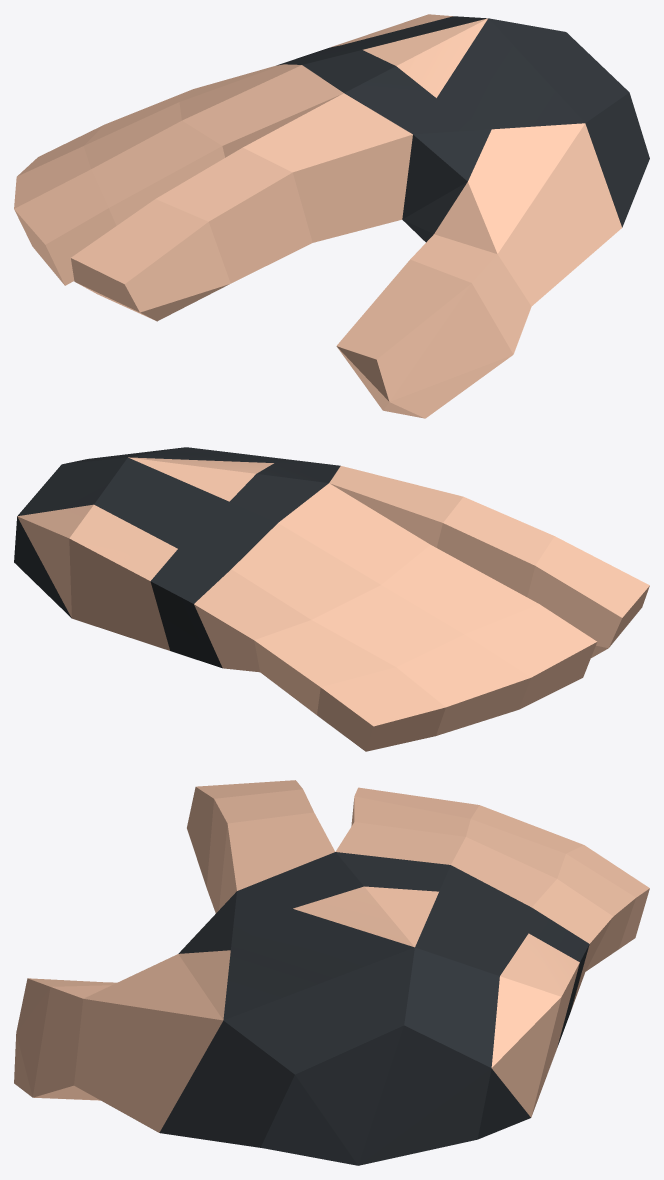
File: Chr_HandRight_Male_10_Static.fbx
The picture shows the model from 3 angles, top to bottom: view 1: azimuth 30°, elevation 25°; view 2: azimuth 150°, elevation 25°; view 3: azimuth 270°, elevation 25°; orthographic projection. The views are drawn at different scales.
Parts seen in each view (by area): view 1: Chr_HandRight_Male_10_Static; view 2: Chr_HandRight_Male_10_Static; view 3: Chr_HandRight_Male_10_Static.
Boxes of the visible parts, x1,y1,x2,y2 form: Chr_HandRight_Male_10_Static: (14,14,649,418); Chr_HandRight_Male_10_Static: (14,447,649,751); Chr_HandRight_Male_10_Static: (14,780,649,1165).
Bounding box in the file's own units: 0.2335 × 0.0952 × 0.188.
